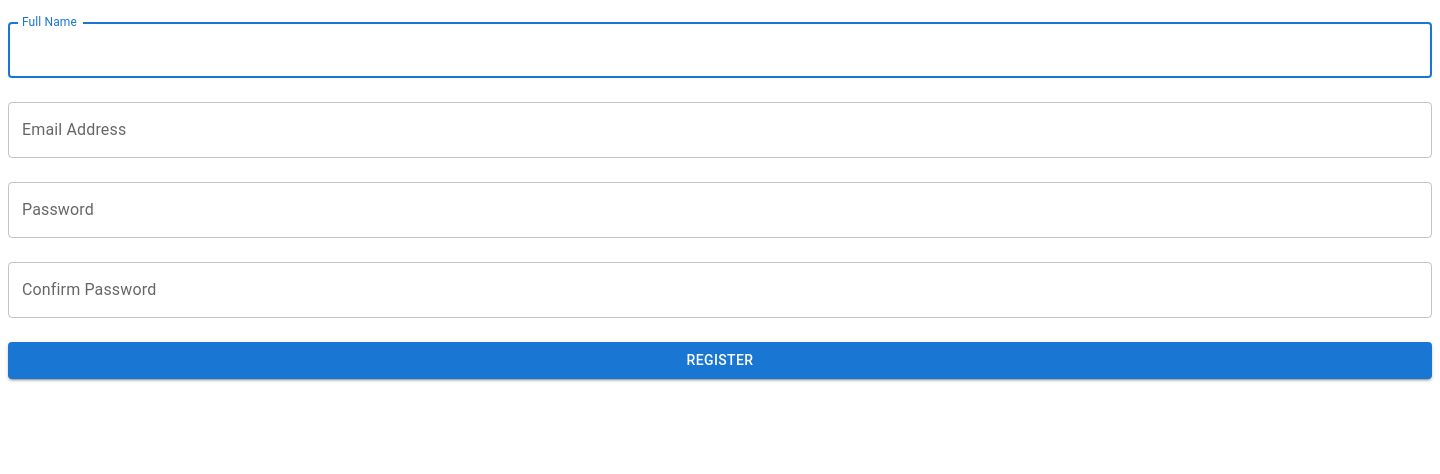
Test: Register › populate with invalid inputs
Note: provide invalid name, email and mismatch password
Type "123invalidname" into the field labelled "Full Name" at (720, 50), box [8,22,1432,78]
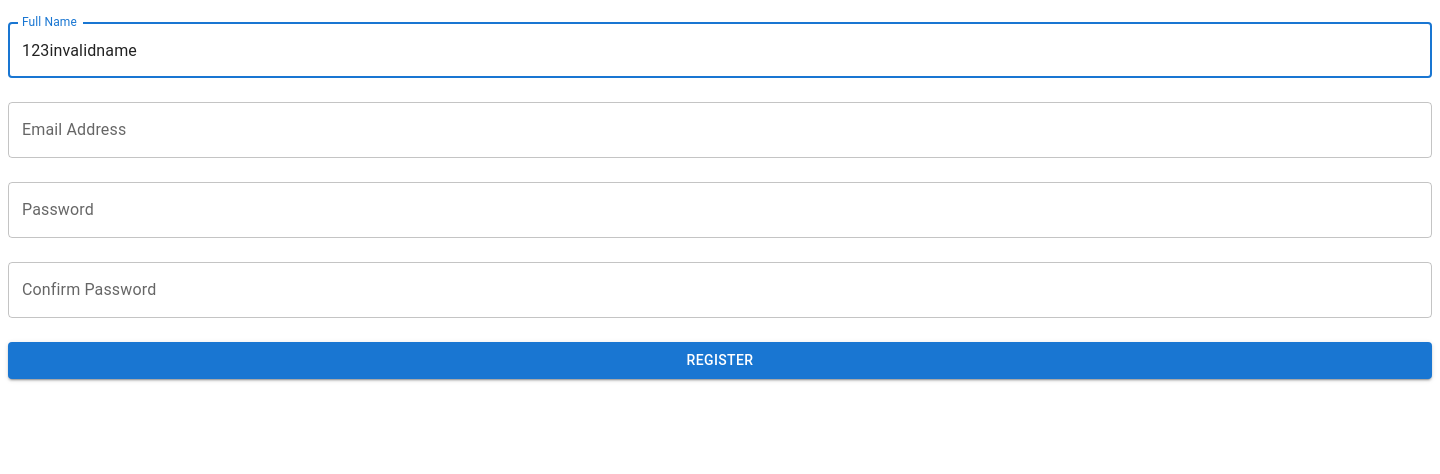
Type "Testmail.com" into the field labelled "Email Address" at (720, 130), box [8,102,1432,158]
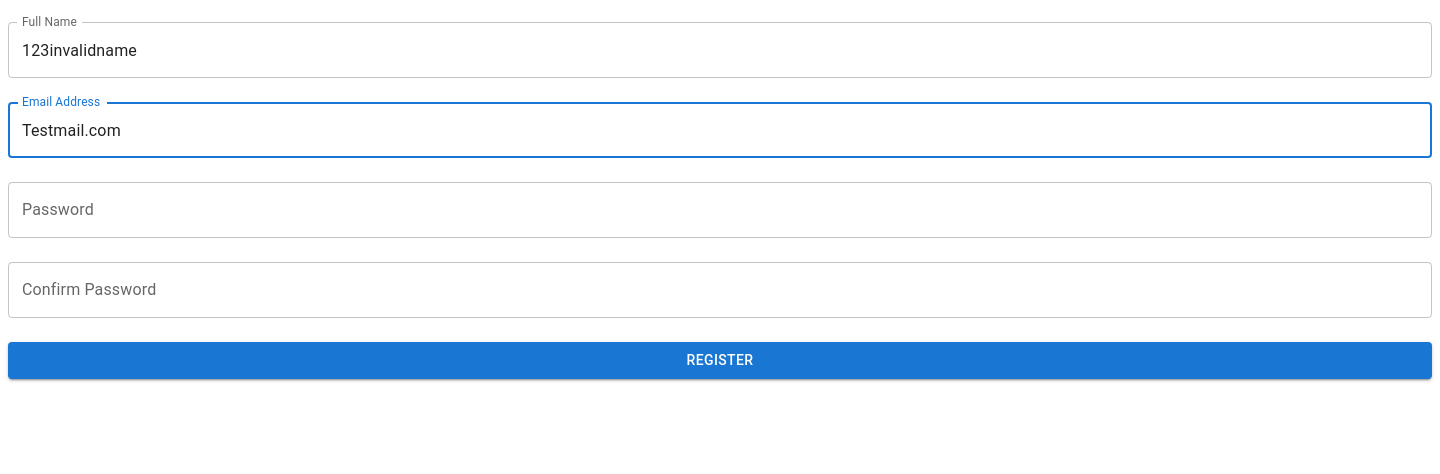
Type "123" into the password field labelled "Password" at (720, 210), box [8,182,1432,238]
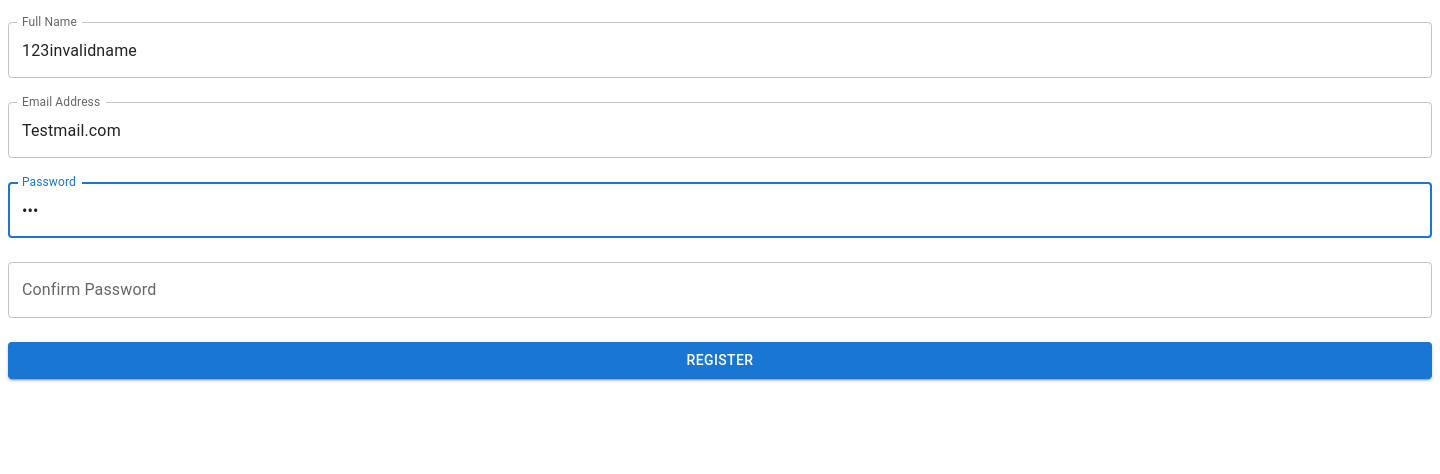
Type "1234" into the password field labelled "Confirm Password" at (720, 290), box [8,262,1432,318]
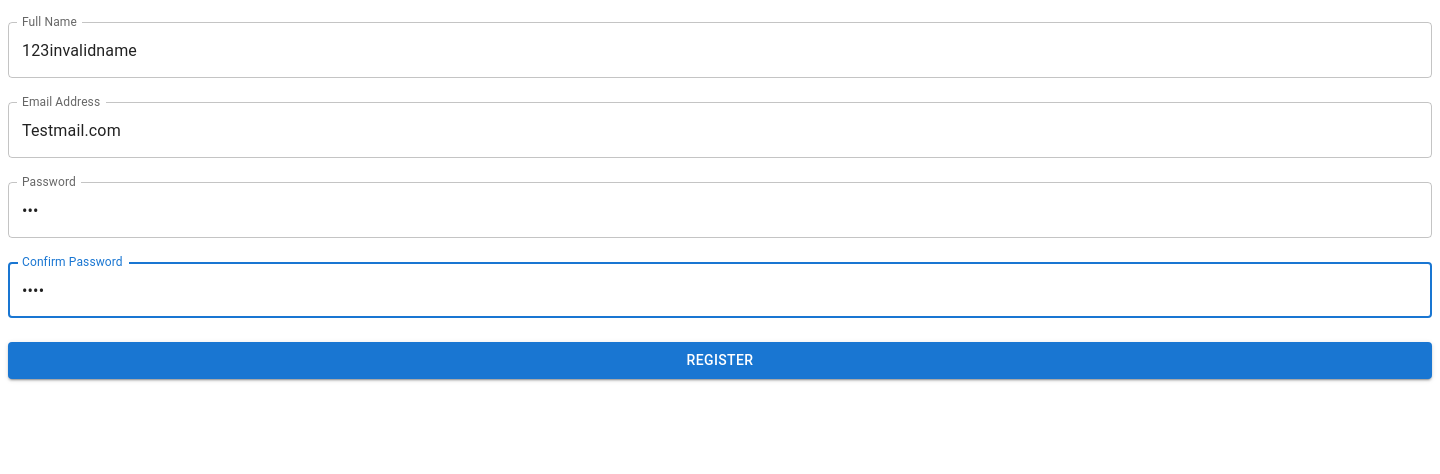
Note: when submitting, validation should show
Click the button "Register" at (720, 360), box [8,342,1432,378]
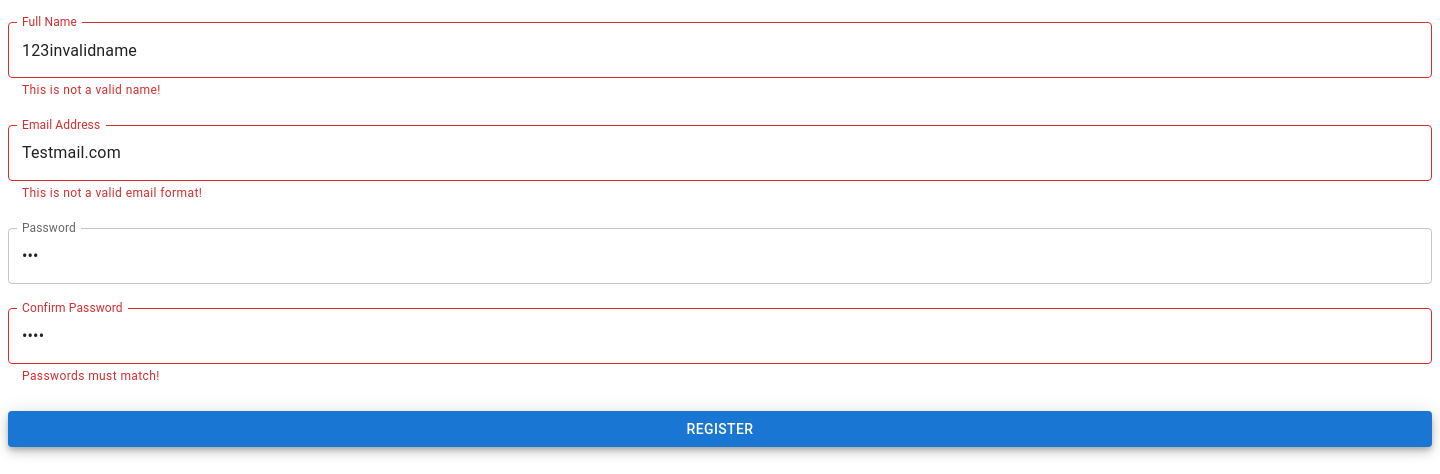
Check: the text "This is not a valid name!" is shown, box [22,83,161,97]
Check: the text "This is not a valid email format!" is shown, box [22,186,202,200]
Check: the text "Passwords must match!" is shown, box [22,369,160,383]
